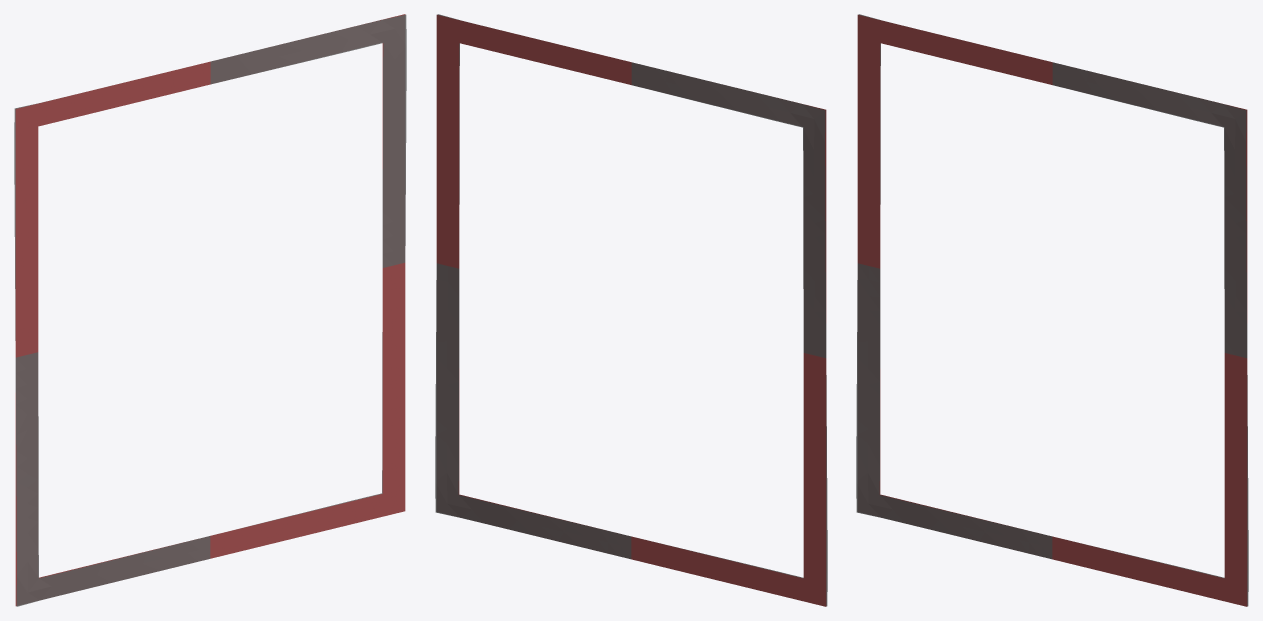
File: warping-box-167-137-8-8-270.glb
3 views of the same model, side by side, from view 1: azimuth 30°, elevation 25°; view 2: azimuth 150°, elevation 25°; view 3: azimuth 330°, elevation 25° (orthographic).
Parts seen in each view (by area): view 1: undeformed cross-section, cross-section with warping; view 2: undeformed cross-section, cross-section with warping; view 3: undeformed cross-section, cross-section with warping.
Part boxes in pixels (box(x1,y1,x2,y2)): undeformed cross-section: box(15, 14, 405, 605); cross-section with warping: box(14, 14, 406, 606); undeformed cross-section: box(436, 15, 826, 606); cross-section with warping: box(435, 14, 827, 606); undeformed cross-section: box(857, 15, 1247, 606); cross-section with warping: box(856, 14, 1248, 606).
Bounding box in the file's own units: 0.137 × 0.167 × 0.00166.
